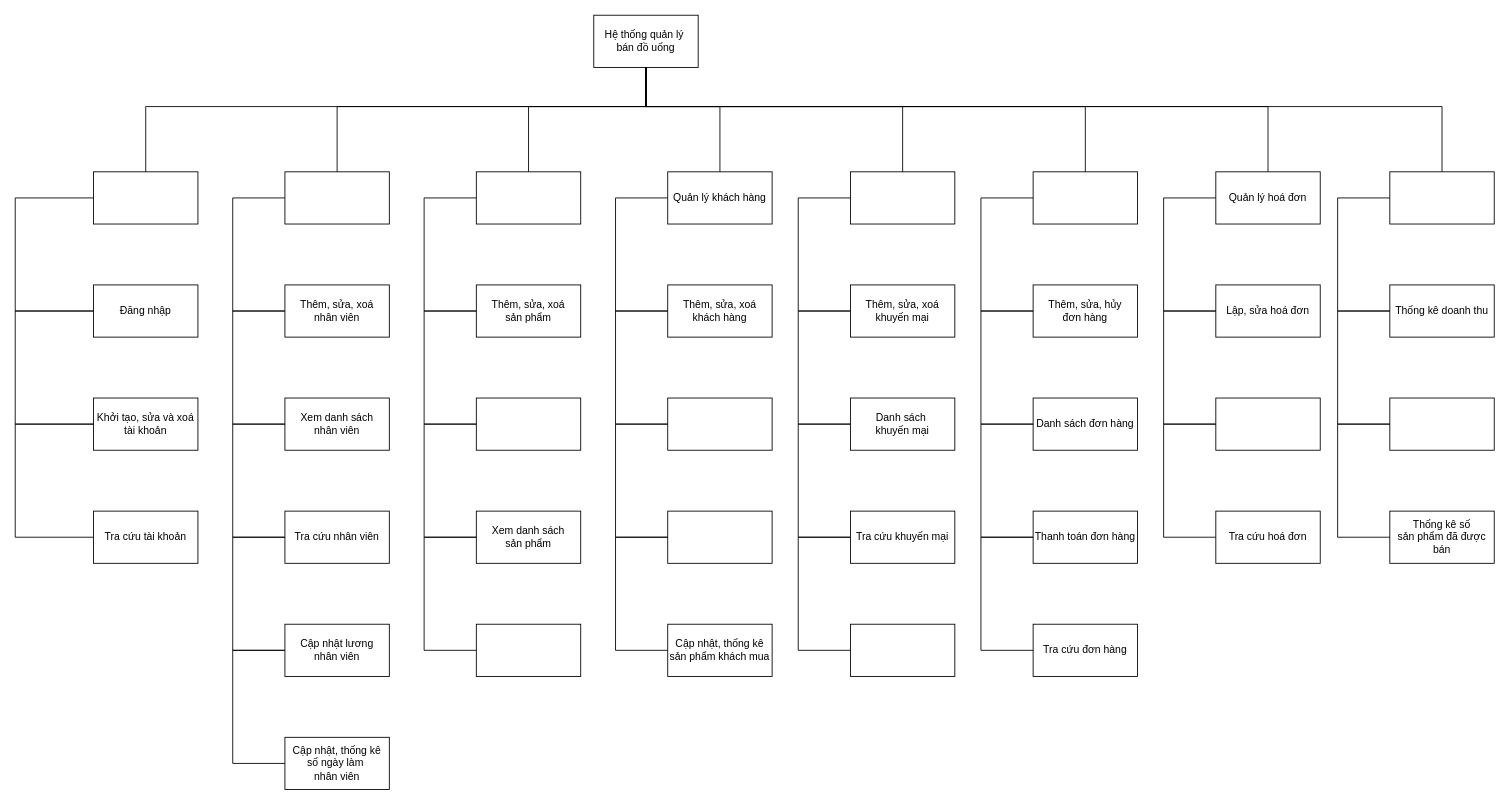
Image size: 1509x805. Some labels were removed from this diagram. The shapes that lost their labels are listed below. From the top down, each one's centre as x and y in pixels, then its label:
(145,197): Quản lý người dùng
(336,197): Quản lý nhân viên
(528,197): Quản lý sản phẩm
(902,197): Quản lý khuyến mại
(1085,197): Quản lý đơn hàng
(1441,197): Báo cáo
(528,423): Kiểm tra tình trạng sản phẩm
(719,423): Xem danh sách khách hàng
(1267,423): Xem danh sách hoá đơn
(1441,423): Thống kê số lượng sản phẩm
(719,536): Cập nhật, thống kê ngày khách hàng mua
(528,649): Tra cứu sản phẩm
(902,649): Áp mã khuyến mại vào đơn hàng
